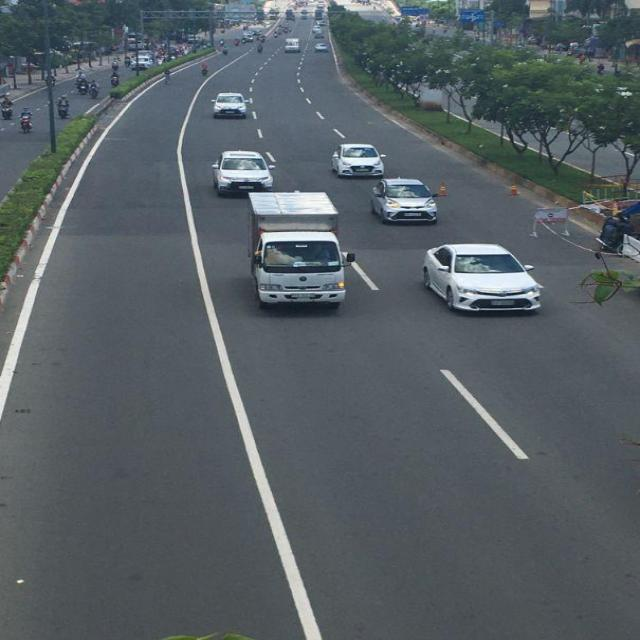car: (425, 243, 546, 316), (371, 178, 438, 224), (213, 149, 273, 196), (334, 144, 386, 181), (212, 92, 246, 119), (314, 45, 327, 53)
motorcycle: (21, 112, 32, 132)
truck: (250, 189, 346, 306)
